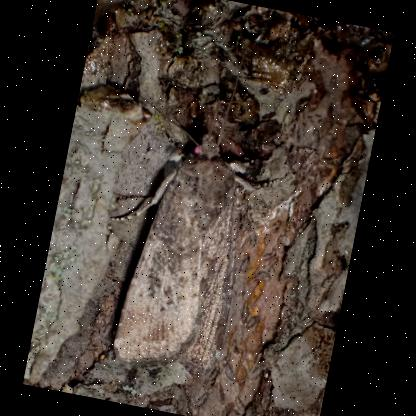Fall Armyworm Moth: (77, 80, 295, 394)
